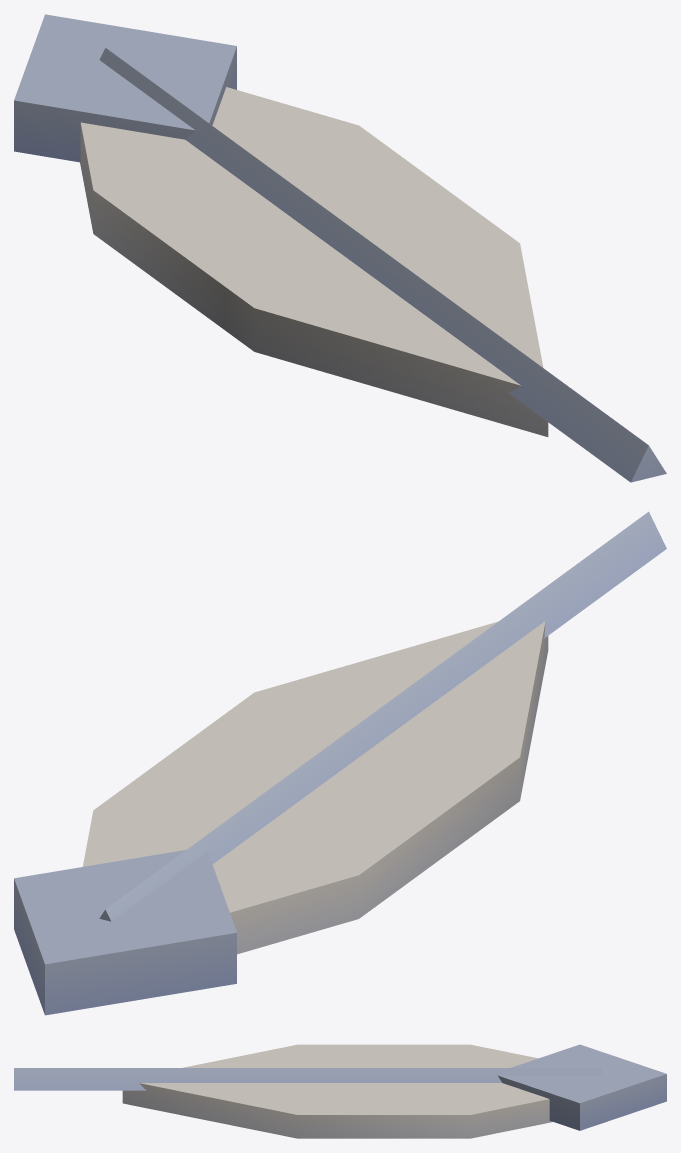
The model's file is tiny_feather.glb.
3 views of the same model, one above another, from view 1: azimuth 30°, elevation 25°; view 2: azimuth 150°, elevation 25°; view 3: azimuth 270°, elevation 25° (orthographic). The views are drawn at different scales.
Visible parts, largest first — view 1: tiny_feather; view 2: tiny_feather; view 3: tiny_feather.
Boxes of the visible parts, x1,y1,x2,y2 form: tiny_feather: (14, 14, 666, 482); tiny_feather: (14, 511, 666, 1015); tiny_feather: (14, 1044, 666, 1138).
Size of the model in its own units: 0.0381 by 0.009 by 0.15.
